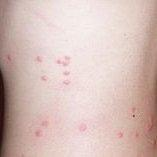Fleas: (56, 55, 72, 65), (76, 121, 88, 133), (145, 116, 153, 133), (62, 79, 74, 88), (41, 120, 52, 129), (62, 68, 71, 78), (128, 103, 135, 115), (4, 55, 14, 63), (34, 130, 43, 137), (35, 56, 43, 63), (117, 130, 122, 138), (148, 139, 156, 144), (41, 75, 47, 80)
